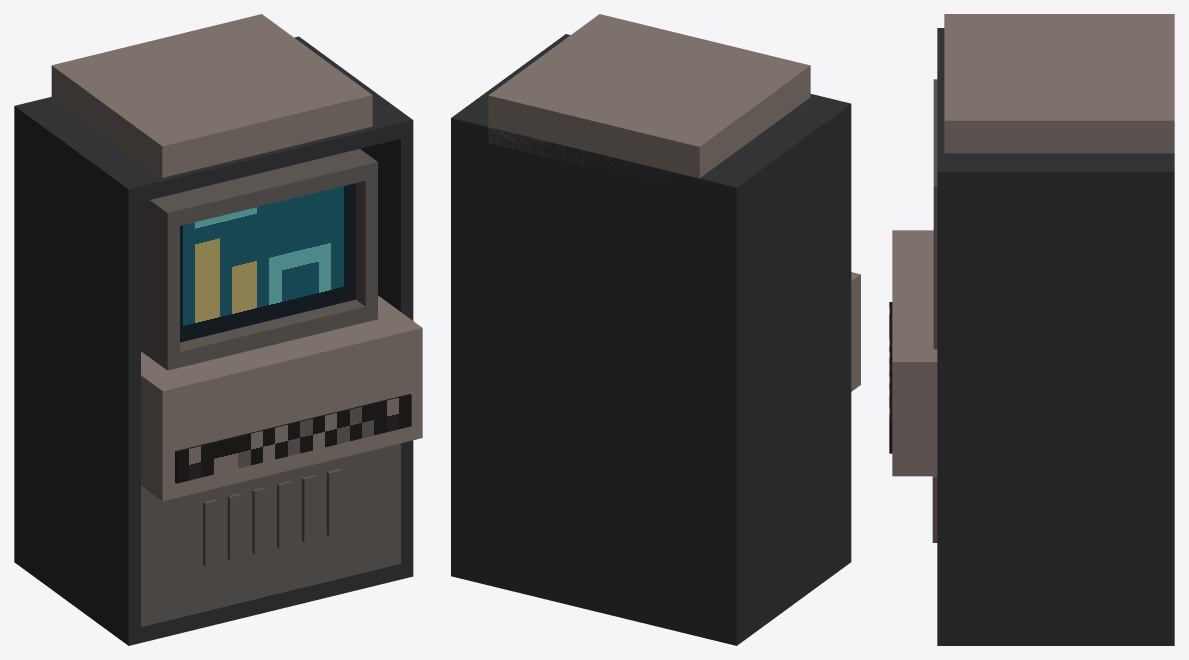
Rendered from CMU3DVehicleSupplyConsoleCloud.glb.
The picture shows the model from 3 angles, left to right: view 1: azimuth 30°, elevation 25°; view 2: azimuth 150°, elevation 25°; view 3: azimuth 270°, elevation 25°; orthographic projection. The views are drawn at different scales.
Parts seen in each view (by area): view 1: left full depth casing, top display cap, keyboard shelf, bottom enclosed cabinet, supply ordering display source detail, right full depth casing, case roof, keyboard source detail, screen surround top, screen surround bottom, screen surround left, case floor (+7 smaller); view 2: cabinet rear, left full depth casing, top display cap, right full depth casing, case roof, keyboard shelf; view 3: right full depth casing, top display cap, keyboard shelf, case roof, screen surround right, screen surround top, keyboard substrate.
Part boxes in pixels (box(x1,y1,x2,y2)): left full depth casing: box(14, 103, 140, 645); top display cap: box(51, 14, 372, 177); keyboard shelf: box(141, 295, 422, 501); bottom enclosed cabinet: box(141, 443, 400, 626); supply ordering display source detail: box(180, 183, 355, 342); right full depth casing: box(294, 36, 413, 579); case roof: box(28, 97, 400, 201); keyboard source detail: box(176, 394, 411, 483); screen surround top: box(141, 149, 377, 228); screen surround bottom: box(141, 299, 377, 370); screen surround left: box(141, 210, 179, 354); case floor: box(141, 564, 400, 642); cabinet rear: box(463, 114, 732, 642); left full depth casing: box(724, 100, 851, 645); top display cap: box(488, 14, 810, 185); right full depth casing: box(451, 34, 570, 579); case roof: box(463, 94, 838, 196); keyboard shelf: box(851, 272, 860, 391); right full depth casing: box(937, 165, 1174, 645); top display cap: box(944, 14, 1174, 153); keyboard shelf: box(892, 230, 937, 476); case roof: box(937, 34, 1174, 165); screen surround right: box(933, 202, 937, 332); screen surround top: box(933, 79, 937, 202); keyboard substrate: box(890, 302, 892, 453).
Size of the model in its own units: 0.7188 by 1.18 by 0.601.
Materials: 8 (2 with a texture image).
